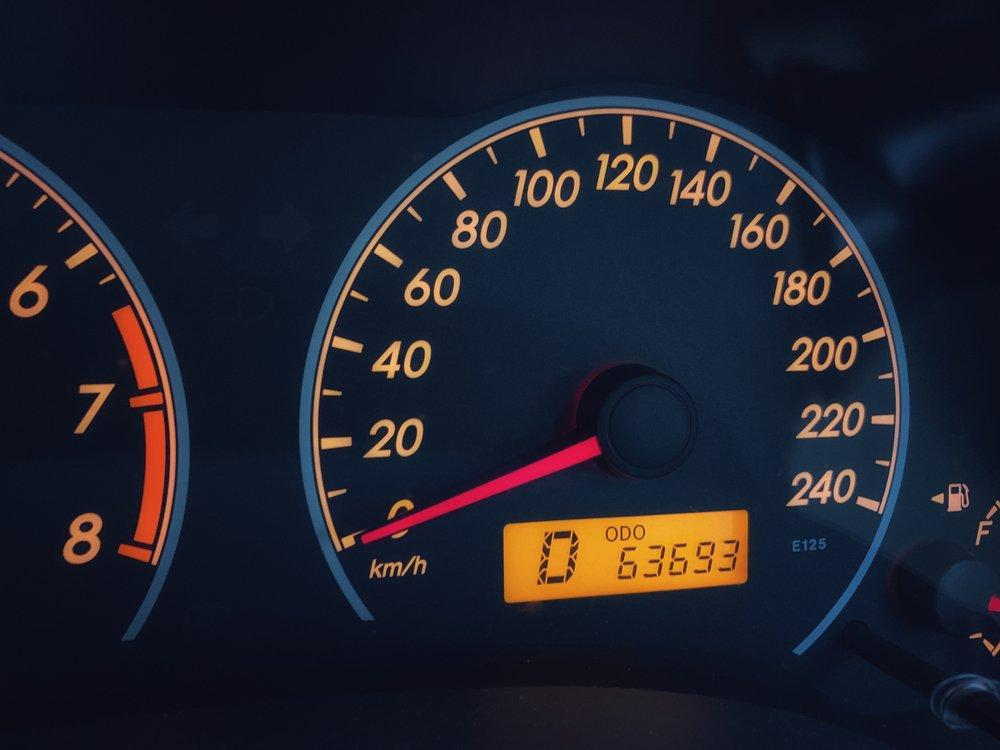3: (641, 544, 666, 579), (716, 539, 741, 572)
6: (616, 546, 638, 580), (668, 543, 690, 576)
9: (692, 541, 716, 574)
X: (533, 529, 580, 587), (605, 526, 618, 543), (633, 524, 645, 540), (620, 525, 631, 542)
odometer: (499, 509, 752, 608)
